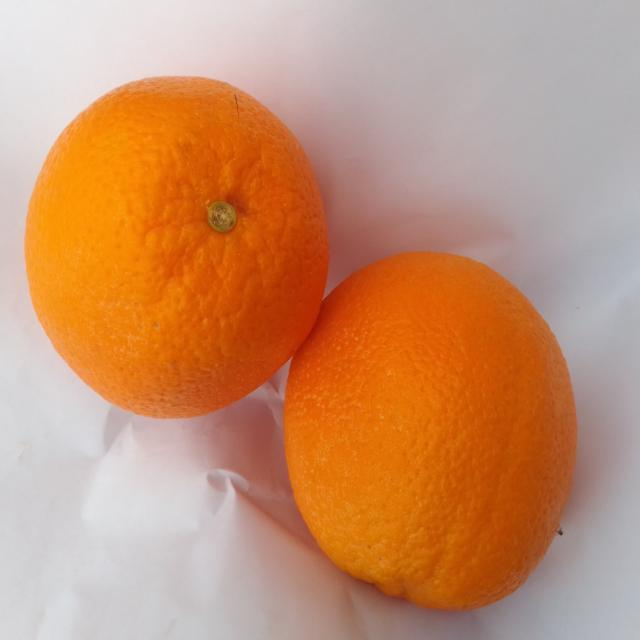orange: (285, 253, 576, 609), (26, 77, 328, 417)
